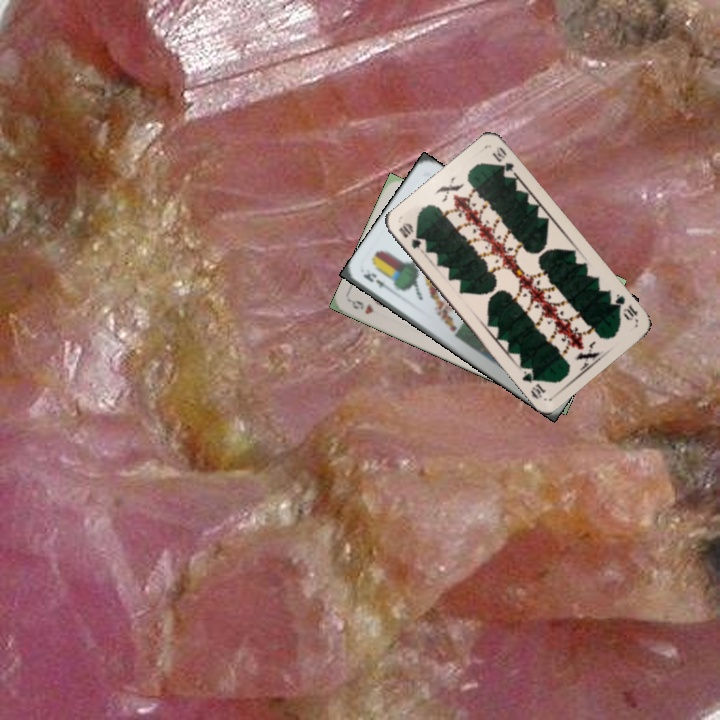EK: (359, 265, 396, 295)
G10: (394, 218, 424, 252), (610, 289, 640, 323)
H9: (347, 296, 377, 317)
